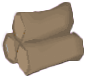logs: (1, 1, 86, 76)
